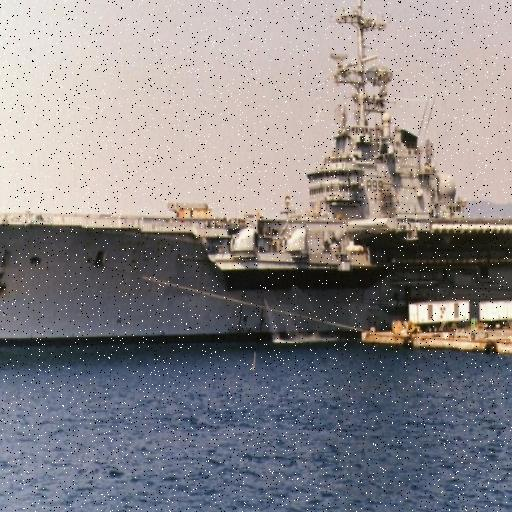Portanaves: (1, 1, 512, 360)
